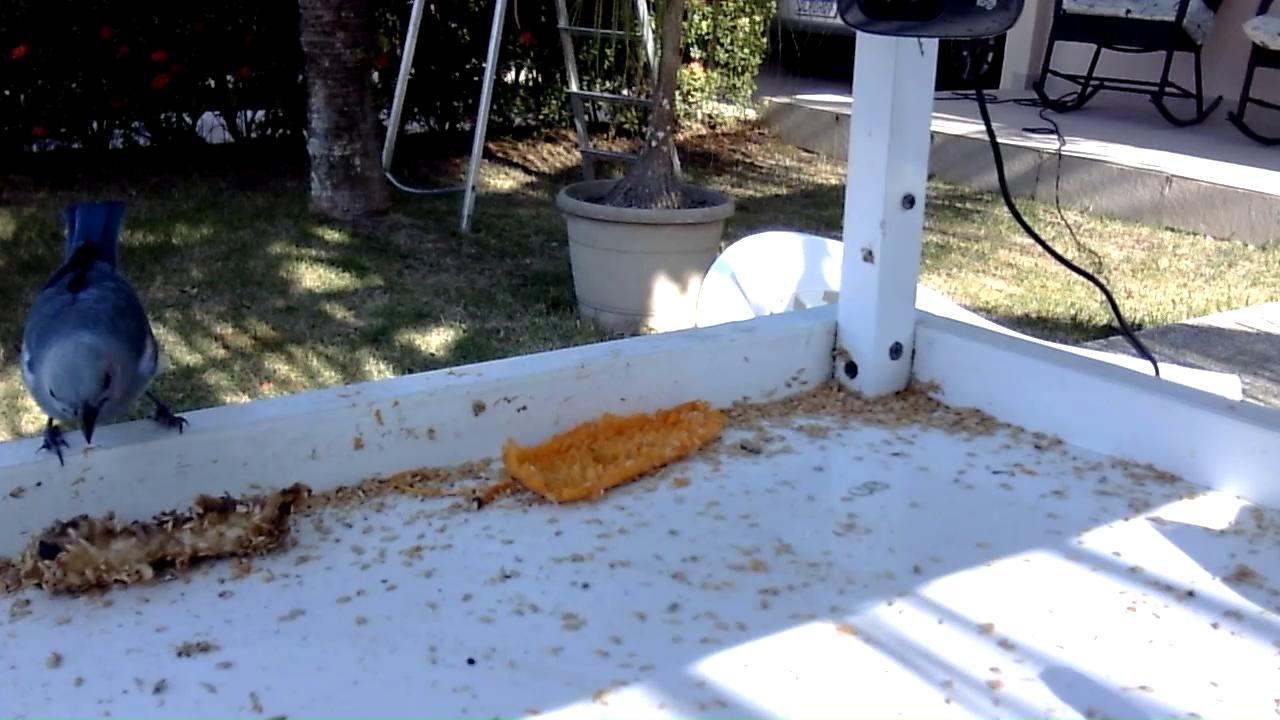sanhaco_da_amazonia: (20, 203, 191, 467)
